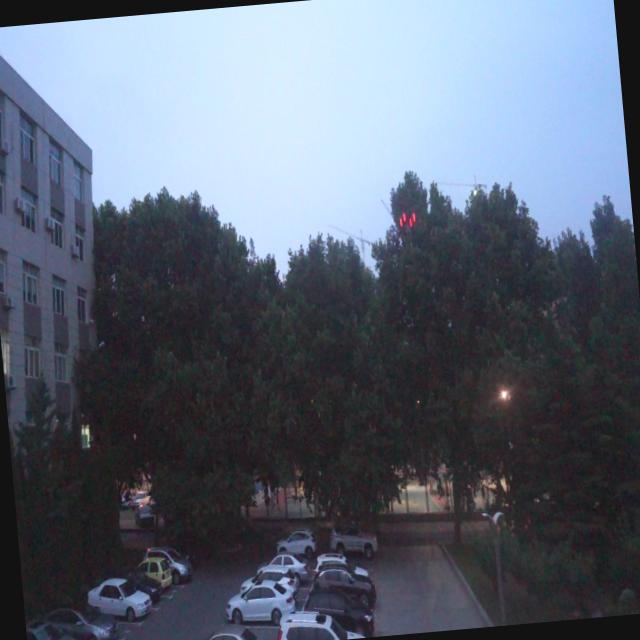drone: (396, 206, 420, 238)
